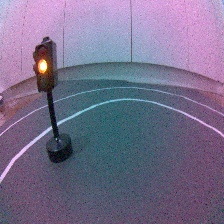amber: (30, 35, 79, 163)
